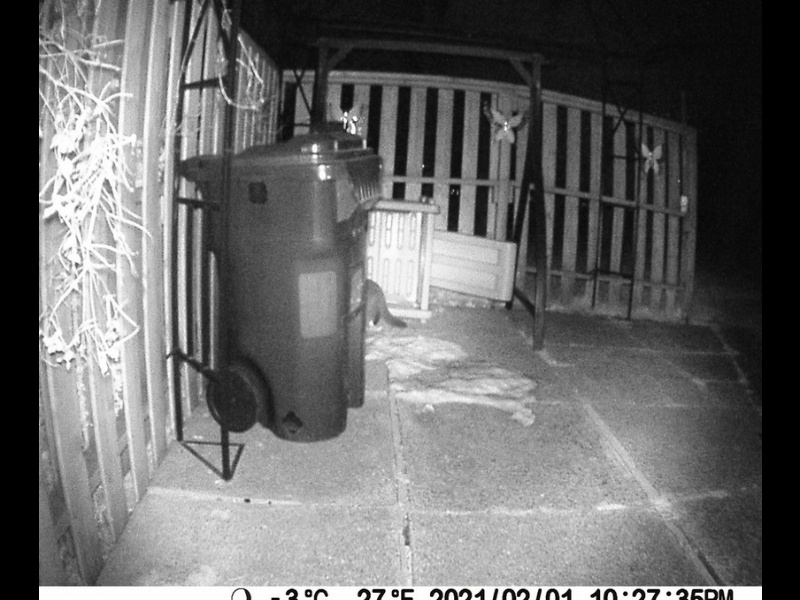cat: (367, 278, 408, 334)
